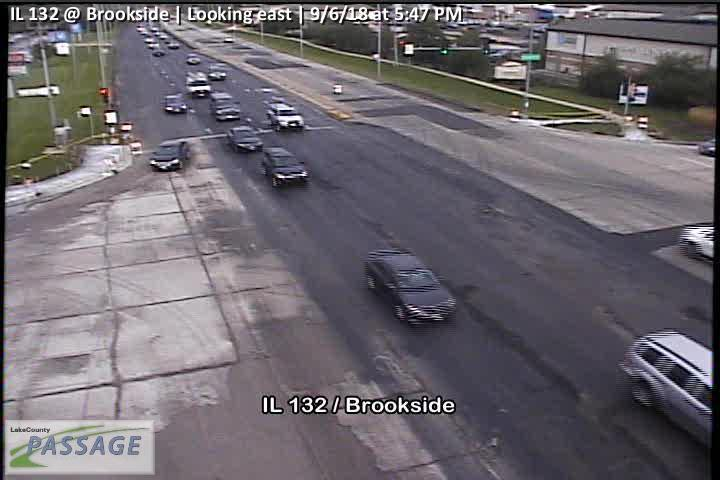SUV: (616, 329, 715, 448), (259, 145, 308, 189)
Sedan: (363, 246, 457, 324), (146, 137, 190, 171), (265, 102, 306, 133), (225, 125, 263, 154), (164, 93, 188, 115)
Truck: (209, 91, 240, 121)
